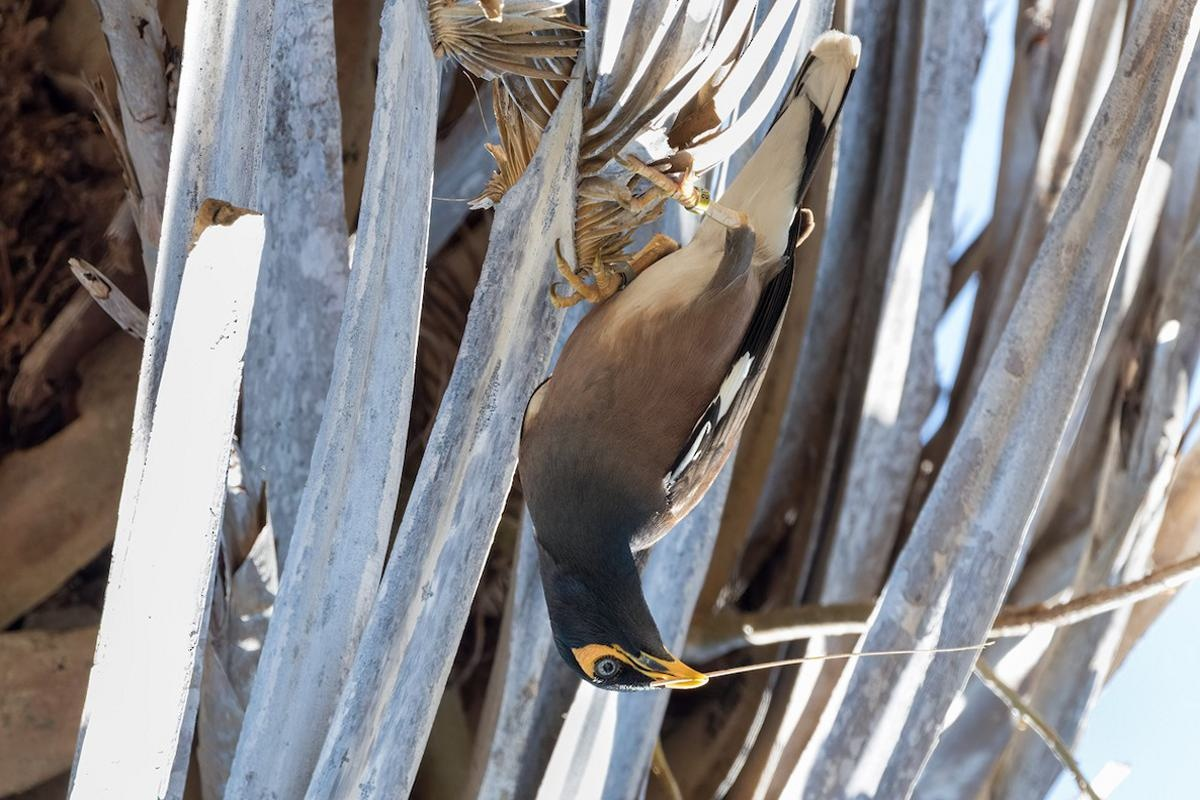myna: (480, 101, 768, 728)
